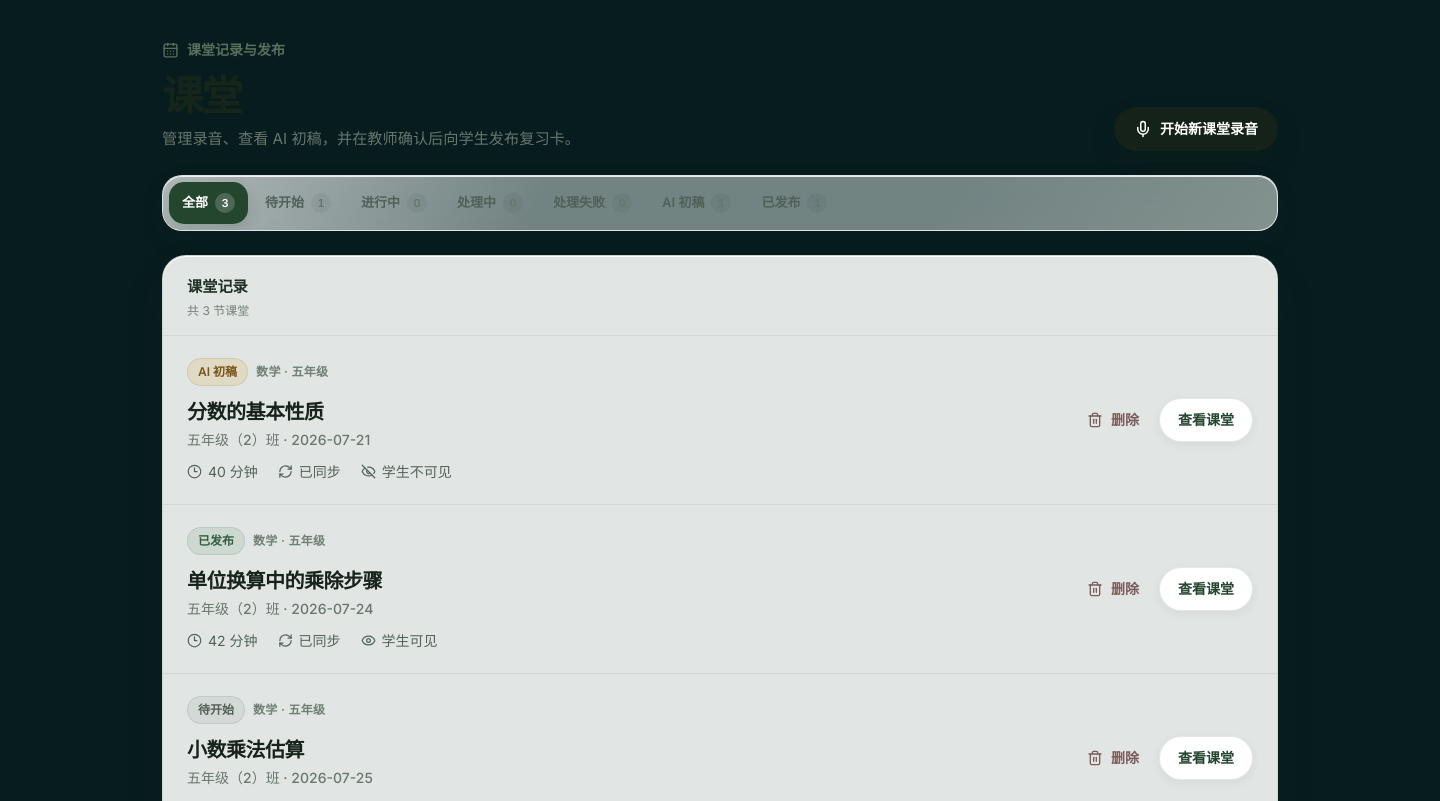
ClassroomPage › fails locally when the recorder produces no audio data
Click the button "开始新课堂录音": coordinates (1196, 129) [1114,107,1278,151]
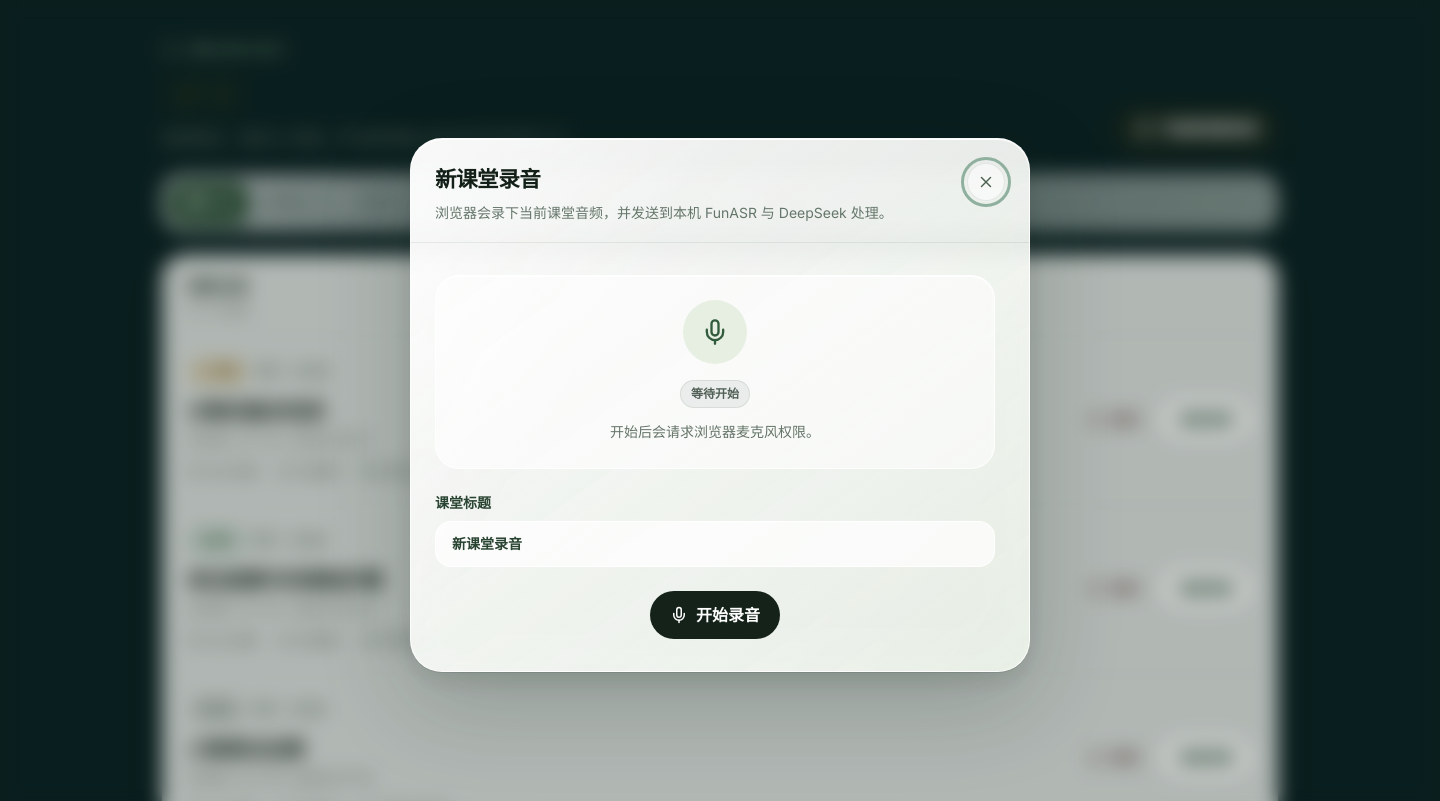
Click the button "开始录音": coordinates (715, 616) [650,592,780,640]
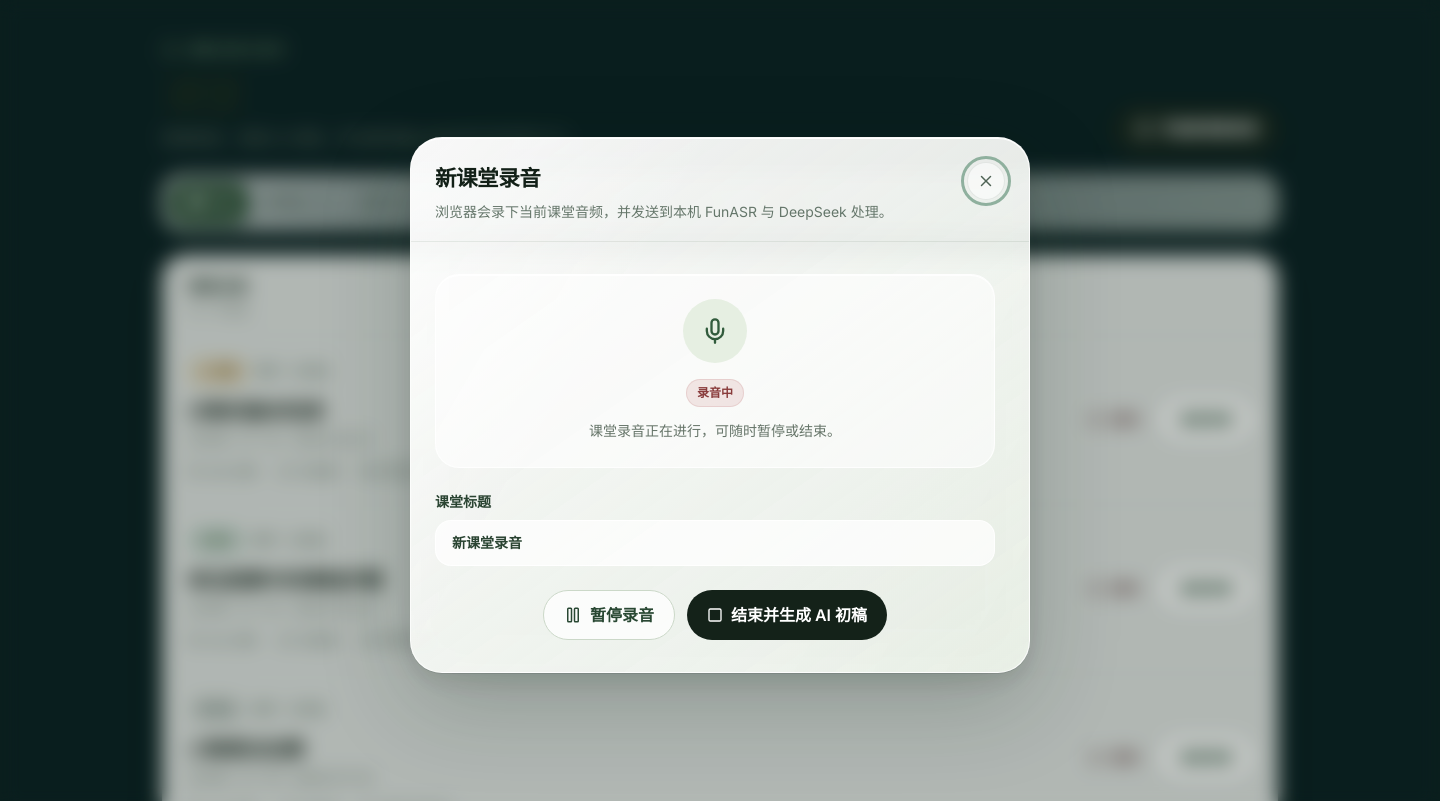
Check: the text "录音中" is shown, box [686,380,744,408]
Click the button "结束并生成 AI 初稿": coordinates (787, 616) [687,590,887,640]
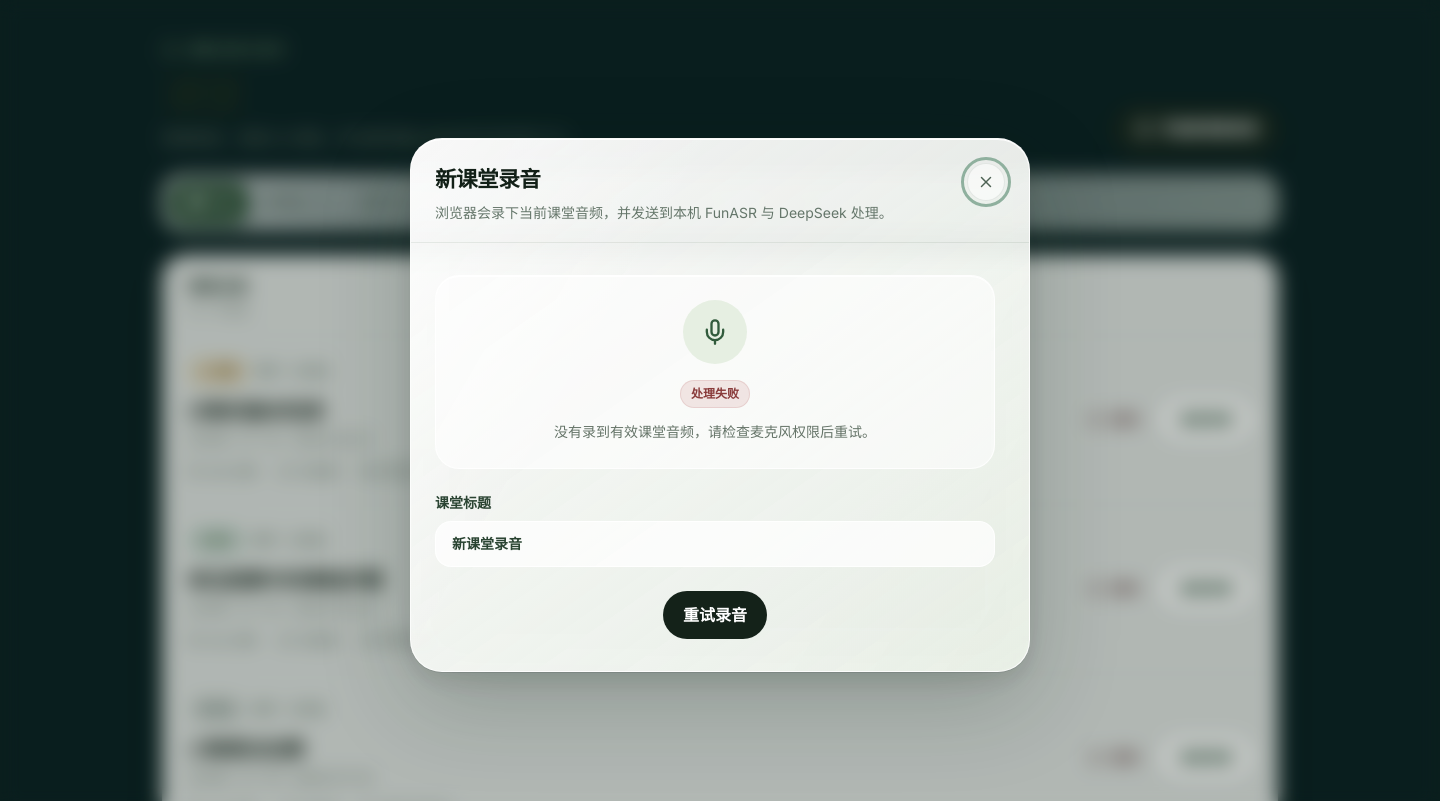
Check: the text "处理失败" is shown, box [680,380,750,408]
Check: the text "没有录到有效课堂音频，请检查麦克风权限后重试。" is shown, box [554,424,876,440]
Check: the button "重试录音" is shown, box [663,592,767,640]
